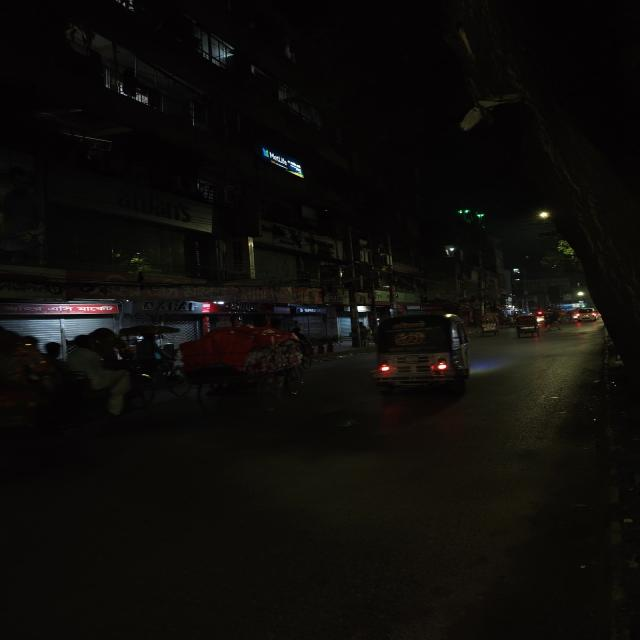car: (572, 307, 599, 322)
cng: (364, 311, 476, 396)
rickshaw: (0, 319, 149, 443), (166, 324, 315, 408), (511, 314, 542, 341), (477, 312, 502, 338)
